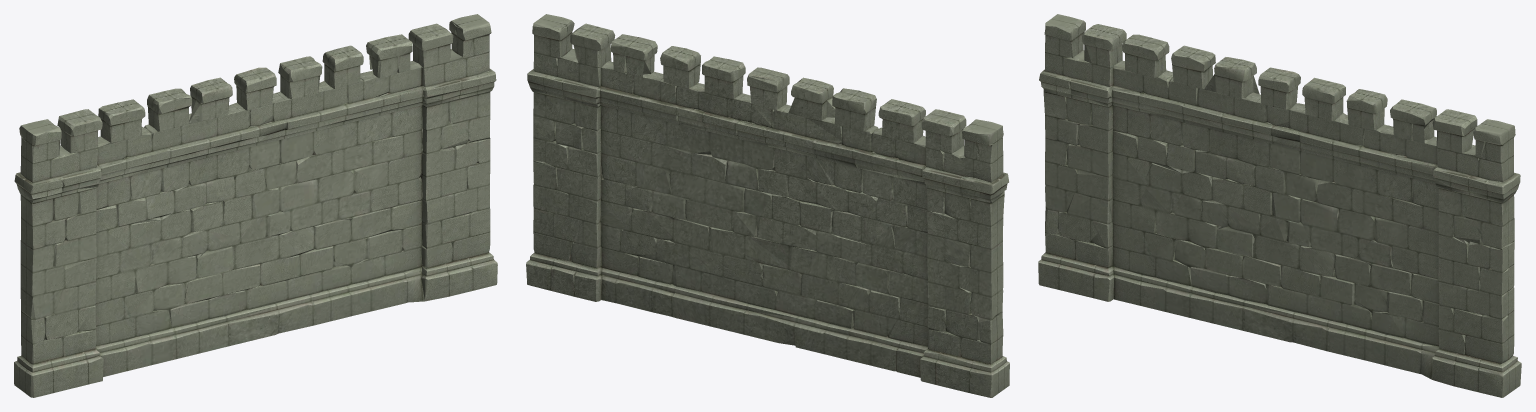
File: wall_segment.glb
3 renders of one model, left to right at view 1: azimuth 30°, elevation 25°; view 2: azimuth 150°, elevation 25°; view 3: azimuth 330°, elevation 25°, orthographic.
Parts seen in each view (by area): view 1: output_unwrapped; view 2: output_unwrapped; view 3: output_unwrapped.
Boxes of the visible parts, x1,y1,x2,y2 form: output_unwrapped: (14,14,497,397); output_unwrapped: (526,14,1009,397); output_unwrapped: (1038,14,1521,397).
Bounding box in the file's own units: 1.9 × 1.02 × 0.1349.
1 material, 1 textured.
